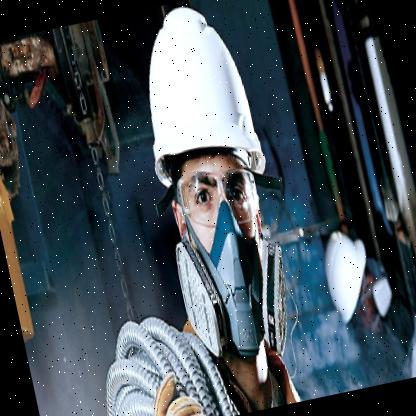capacete: (123, 0, 267, 196)
oculos: (173, 160, 263, 232)
